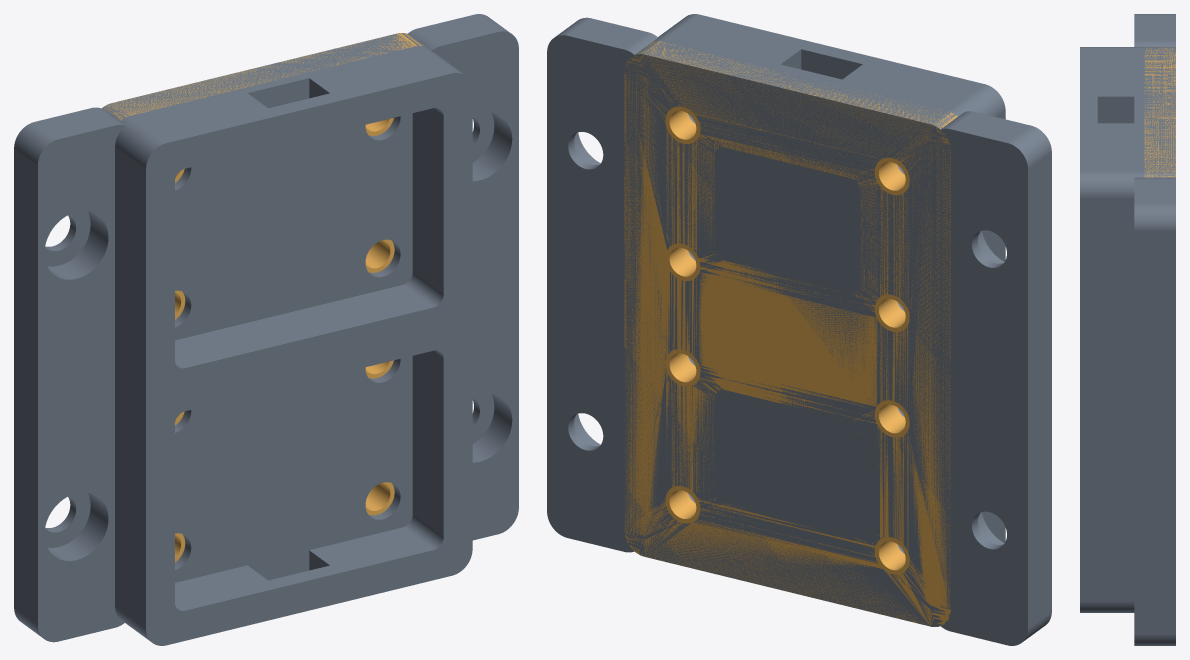
The model's file is dual-accel-mount.glb.
3 renders of one model, left to right at view 1: azimuth 30°, elevation 25°; view 2: azimuth 150°, elevation 25°; view 3: azimuth 270°, elevation 25°, orthographic. The views are drawn at different scales.
Visible parts, largest first — view 1: solid_000, solid_001; view 2: solid_000, solid_001; view 3: solid_000, solid_001.
Boxes of the visible parts, left/top/right/bottom form: solid_000: left=14, top=14, right=518, bottom=645; solid_001: left=104, top=33, right=423, bottom=562; solid_000: left=547, top=14, right=1051, bottom=645; solid_001: left=624, top=41, right=957, bottom=626; solid_000: left=1080, top=14, right=1175, bottom=645; solid_001: left=1144, top=47, right=1175, bottom=177.
Bounding box in the file's own units: 46.7 × 46.6 × 9.2.
